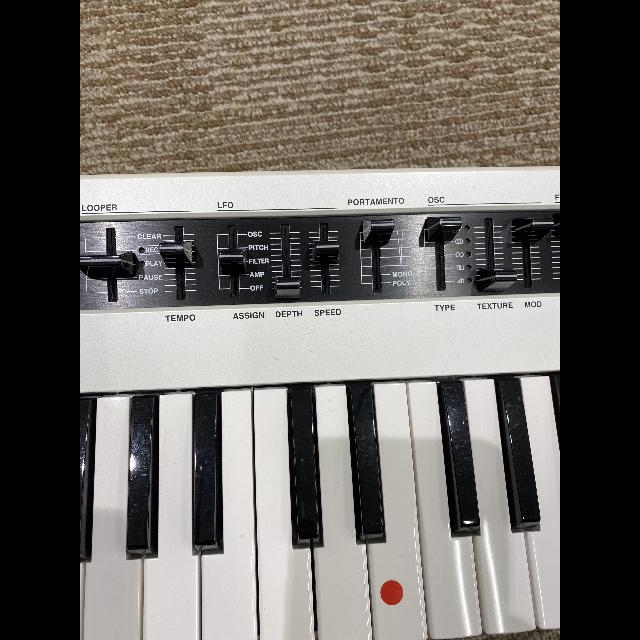Electronic-Keyboard: (80, 163, 560, 640)
